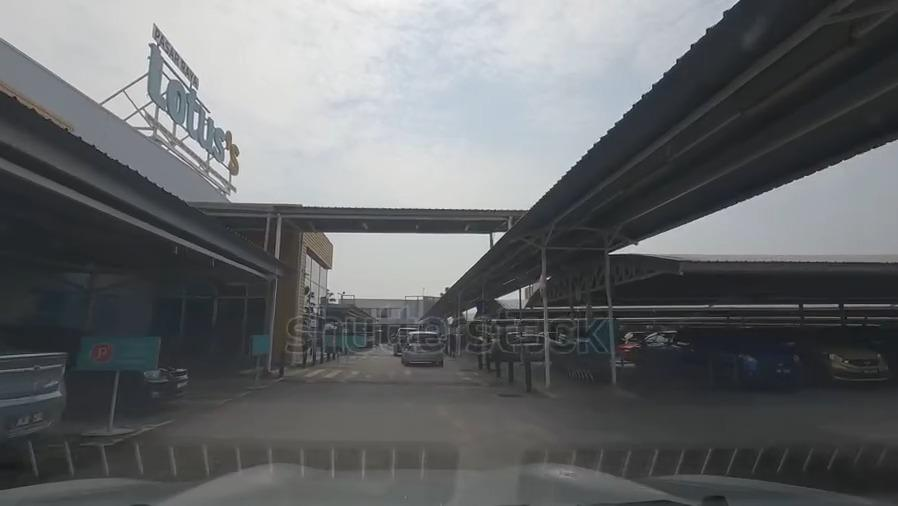car: (32, 324, 188, 404), (676, 331, 799, 386), (0, 342, 69, 438), (800, 332, 889, 385), (476, 334, 561, 360), (406, 331, 443, 365), (638, 329, 676, 361), (393, 327, 413, 353), (617, 338, 637, 355)
manhole: (495, 389, 523, 400)
pedestrian: (286, 367, 488, 376)
speedbump: (279, 374, 484, 389)
